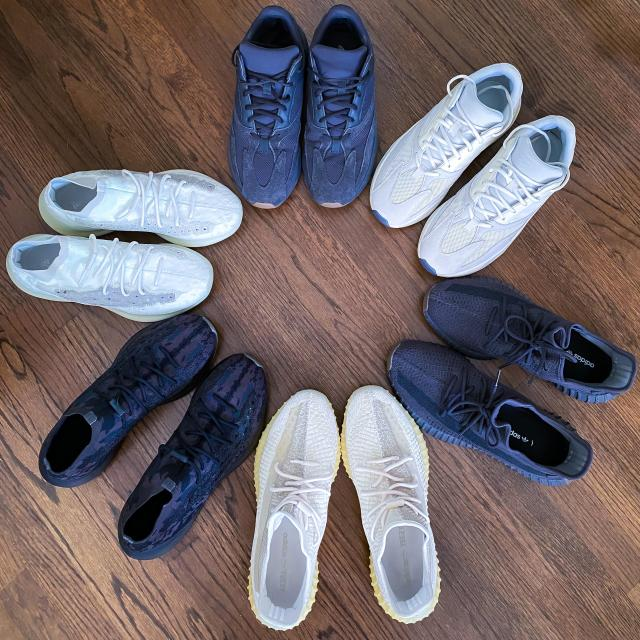shoe: (108, 345, 278, 567), (35, 307, 228, 495), (411, 264, 640, 411), (384, 334, 594, 494), (240, 383, 350, 634), (335, 384, 445, 630), (414, 115, 574, 279), (36, 151, 245, 253), (375, 63, 504, 227), (5, 229, 217, 325), (299, 4, 382, 217), (228, 0, 303, 211)
